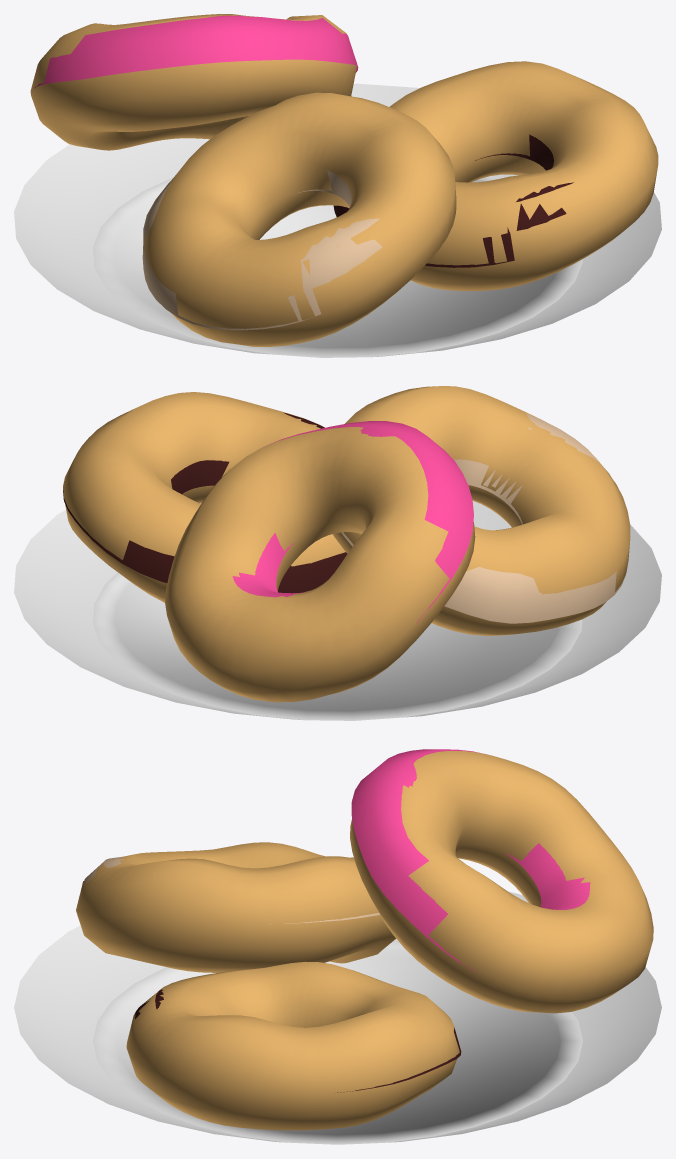
Rendered from DONUT.glb.
The picture shows the model from 3 angles, top to bottom: view 1: azimuth 30°, elevation 25°; view 2: azimuth 150°, elevation 25°; view 3: azimuth 270°, elevation 25°; orthographic projection.
Parts seen in each view (by area): view 1: Torus.005, Cylinder, Torus.003, Torus.001, Torus.002, Torus.006, Torus.004; view 2: Torus.001, Cylinder, Torus.005, Torus.003, Torus.006, Torus.002, Torus.004; view 3: Cylinder, Torus.001, Torus.003, Torus.005, Torus.002.
Boxes of the visible parts, left/top/right/bottom form: Torus.005: left=144, top=92, right=456, bottom=346; Cylinder: left=14, top=83, right=661, bottom=357; Torus.003: left=390, top=61, right=658, bottom=291; Torus.001: left=30, top=14, right=356, bottom=150; Torus.002: left=33, top=15, right=358, bottom=88; Torus.006: left=142, top=170, right=382, bottom=330; Torus.004: left=333, top=134, right=573, bottom=267; Torus.001: left=165, top=427, right=475, bottom=702; Cylinder: left=14, top=501, right=661, bottom=720; Torus.005: left=332, top=386, right=630, bottom=635; Torus.003: left=63, top=392, right=345, bottom=602; Torus.006: left=341, top=413, right=625, bottom=623; Torus.002: left=232, top=421, right=473, bottom=622; Torus.004: left=63, top=412, right=347, bottom=593; Cylinder: left=14, top=892, right=661, bottom=1144; Torus.001: left=350, top=751, right=653, bottom=1013; Torus.003: left=126, top=961, right=459, bottom=1130; Torus.005: left=76, top=842, right=395, bottom=972; Torus.002: left=351, top=749, right=590, bottom=972.
Size of the model in its own units: 6.46 by 2.62 by 6.46.
